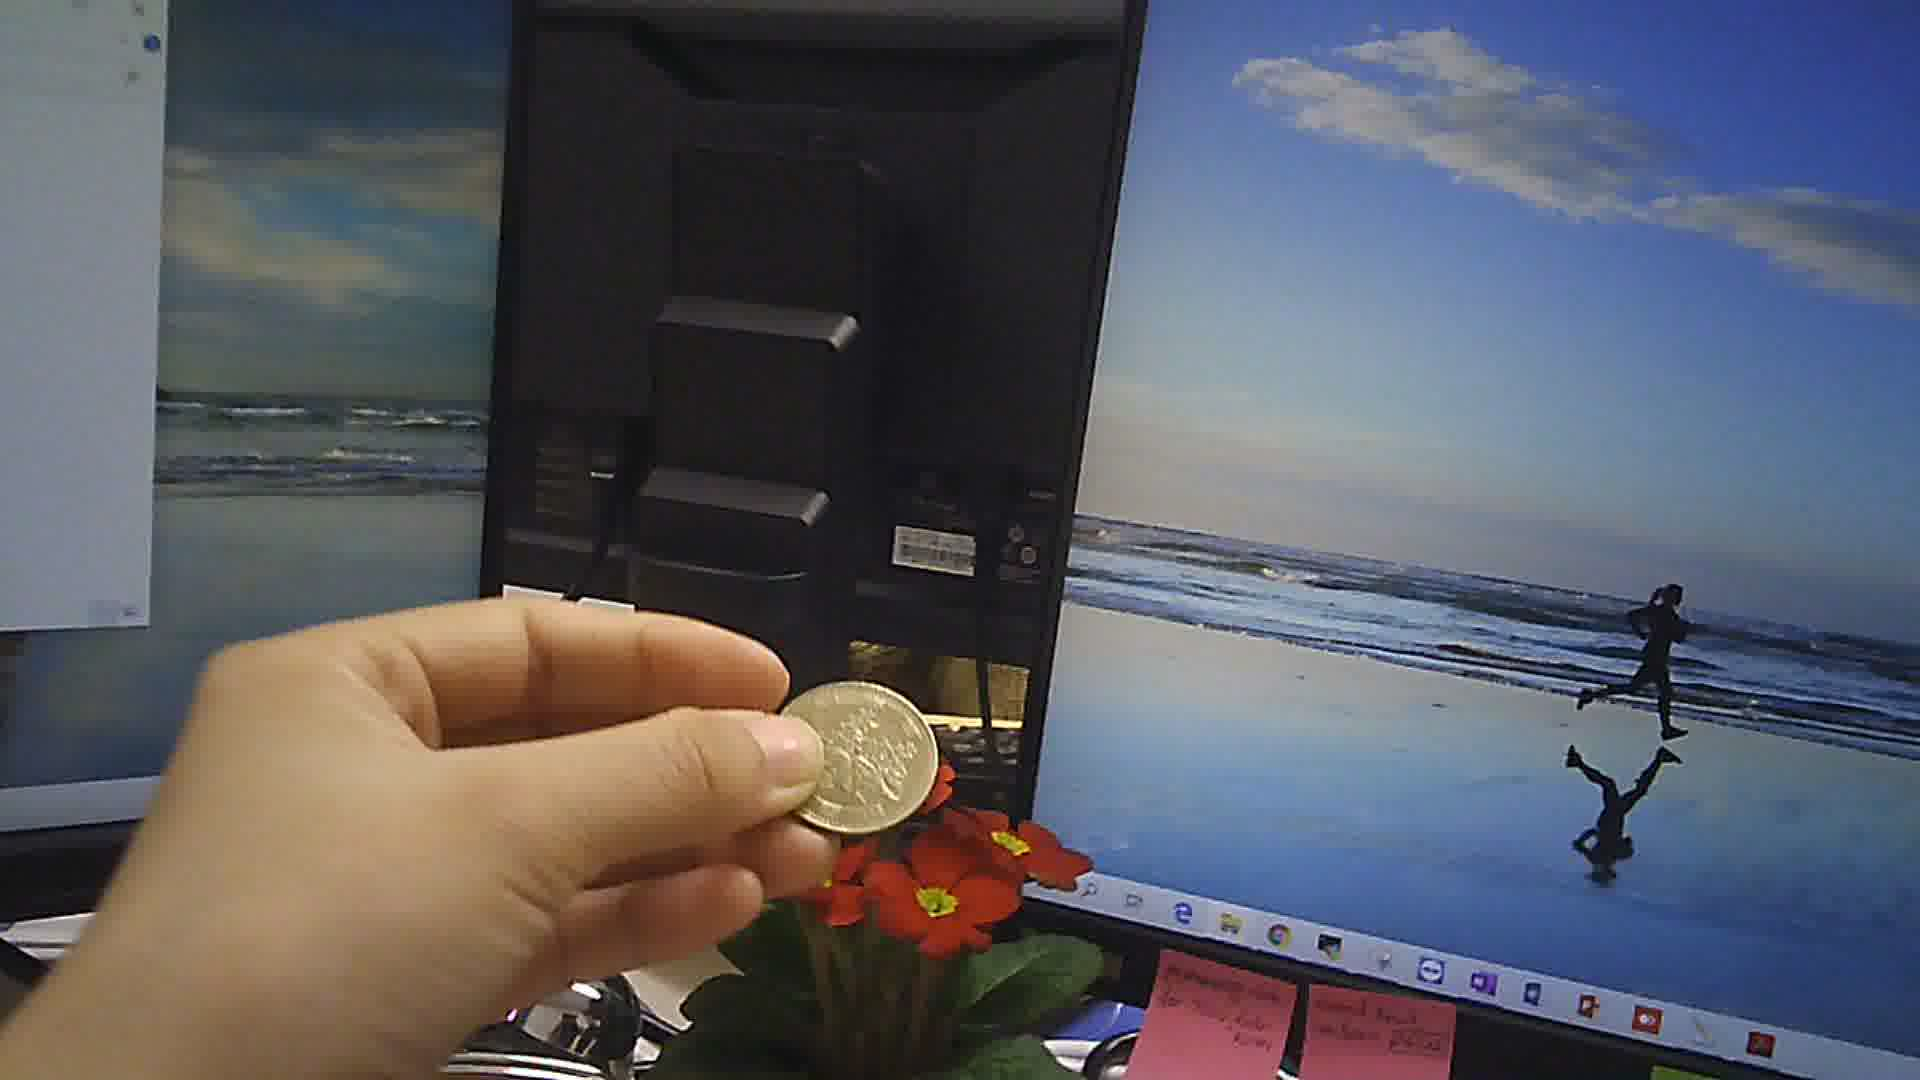500 Yen: (773, 676, 957, 848)
